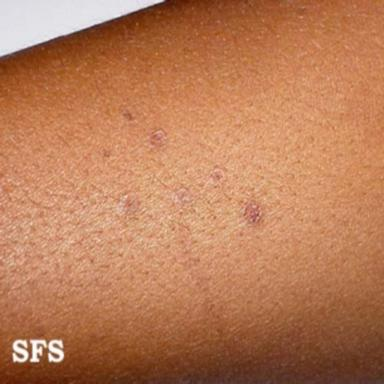Porokeratosis: (116, 193, 140, 215), (242, 201, 263, 224), (173, 188, 192, 206), (148, 130, 166, 149), (210, 166, 226, 183)
